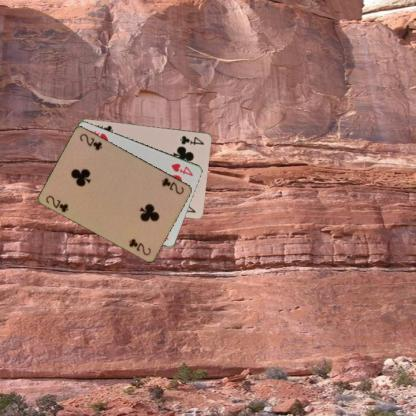2c: (43, 193, 70, 214), (159, 175, 185, 196)
4c: (177, 133, 205, 146)
4h: (168, 160, 194, 178)
